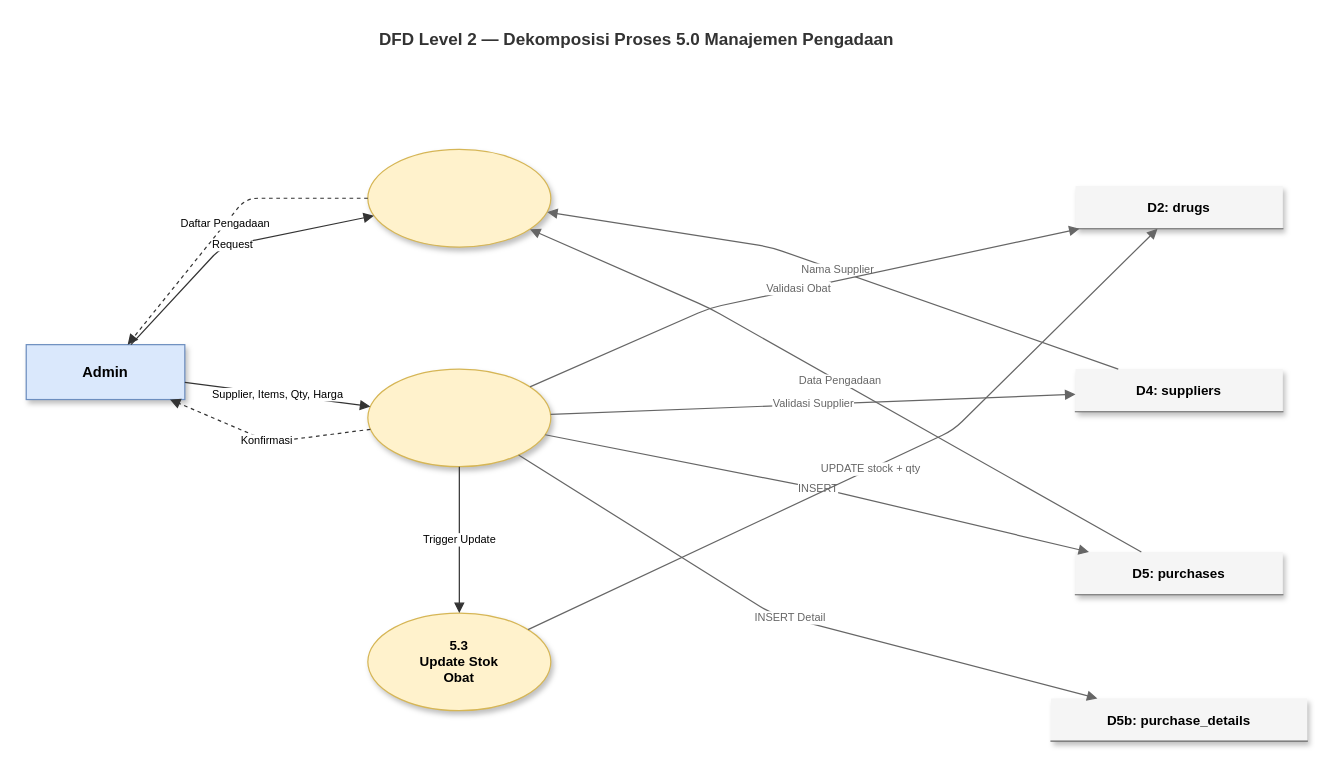
The diagram is 1336 pixels wide and 771 high, and some of its shapes have lost their labels. Each missing label, with the centre of its shape:
5.1 Lihat Daftar Pengadaan: the point at 460,199
5.2 Buat Pengadaan Baru: the point at 460,419
